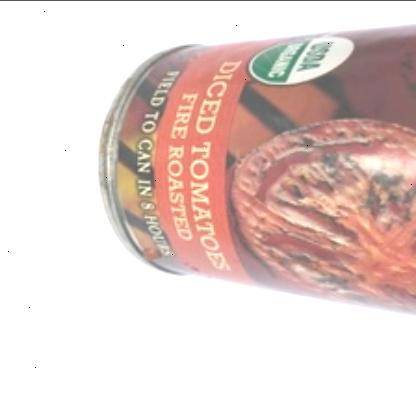Can: (98, 21, 416, 319)
